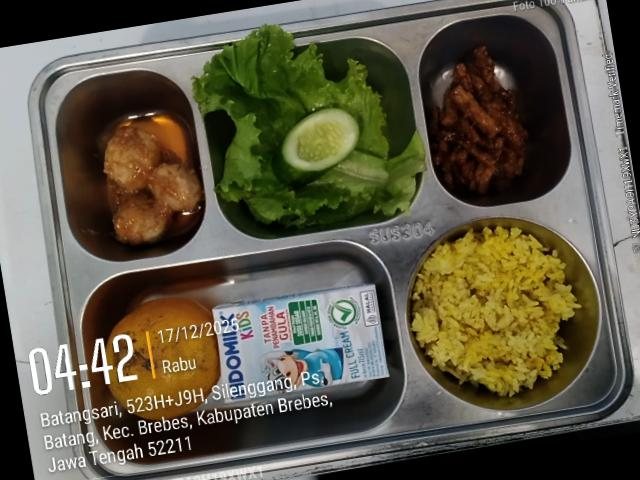ayam: (104, 124, 204, 245)
buah: (106, 297, 220, 420)
nasi: (411, 227, 581, 396)
sayur: (193, 25, 425, 227)
susu: (212, 284, 389, 403)
tempe: (429, 46, 528, 194)
